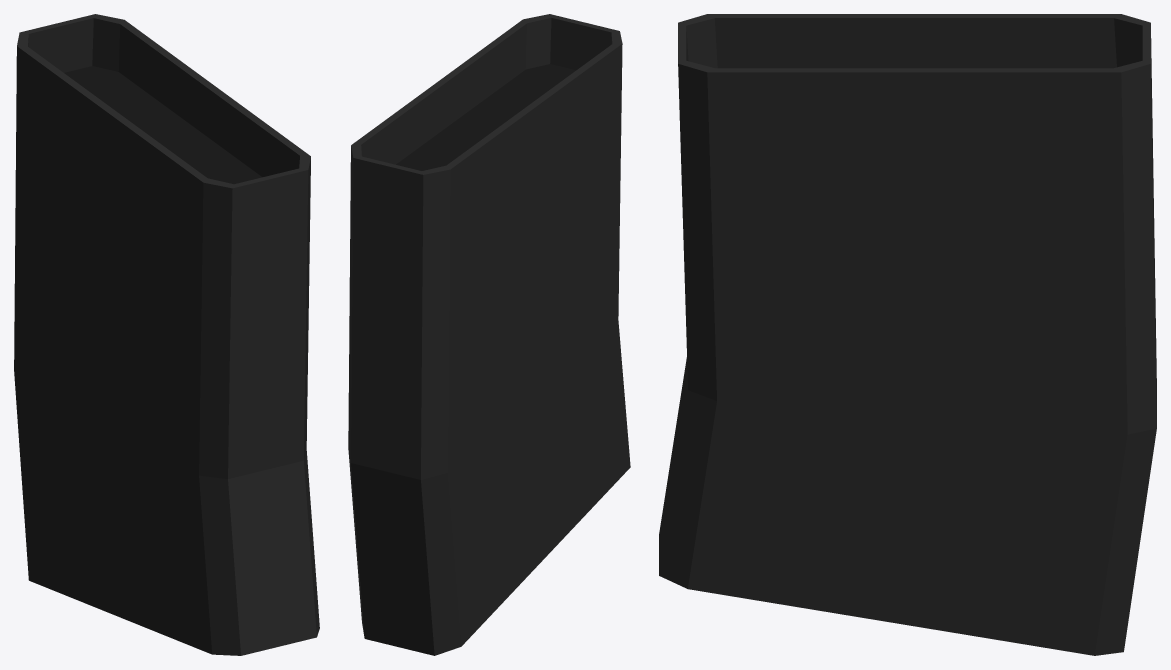
File: SVT_Gun.glb
3 renders of one model, left to right at view 1: azimuth 30°, elevation 25°; view 2: azimuth 150°, elevation 25°; view 3: azimuth 270°, elevation 25°, orthographic. The views are drawn at different scales.
Parts seen in each view (by area): view 1: SVTMag; view 2: SVTMag; view 3: SVTMag.
Part boxes in pixels (x1,y1,x2,y2): SVTMag: (14,14,319,655); SVTMag: (348,14,630,655); SVTMag: (659,14,1156,655).
Bounding box in the file's own units: 0.022 × 0.1034 × 0.0793.
Materials: 1 (1 with a texture image).
